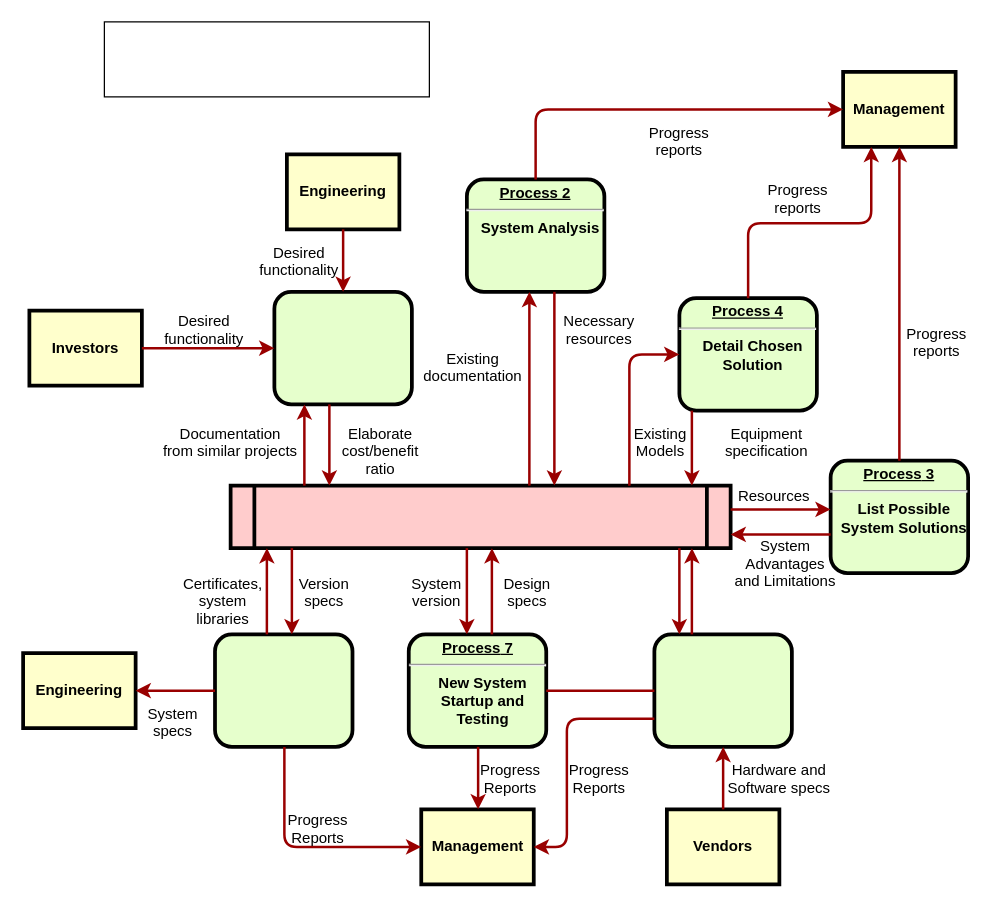
Some shapes in this 991 by 908 pixel diagram are drawn without their labels. The shapes that lost their labels are listed below. From the top down, each one's centre as x and y in pixels, then its label:
the point at 266,59: 来自 流程图 模板 data flow 3
the point at 342,347: Process 1 System Study Preparation
the point at 480,516: ON-DEMAND SYSTEM DEVELOPMENT
the point at 283,690: Process 6 New System Construction
the point at 722,690: Process 5 New System Design
